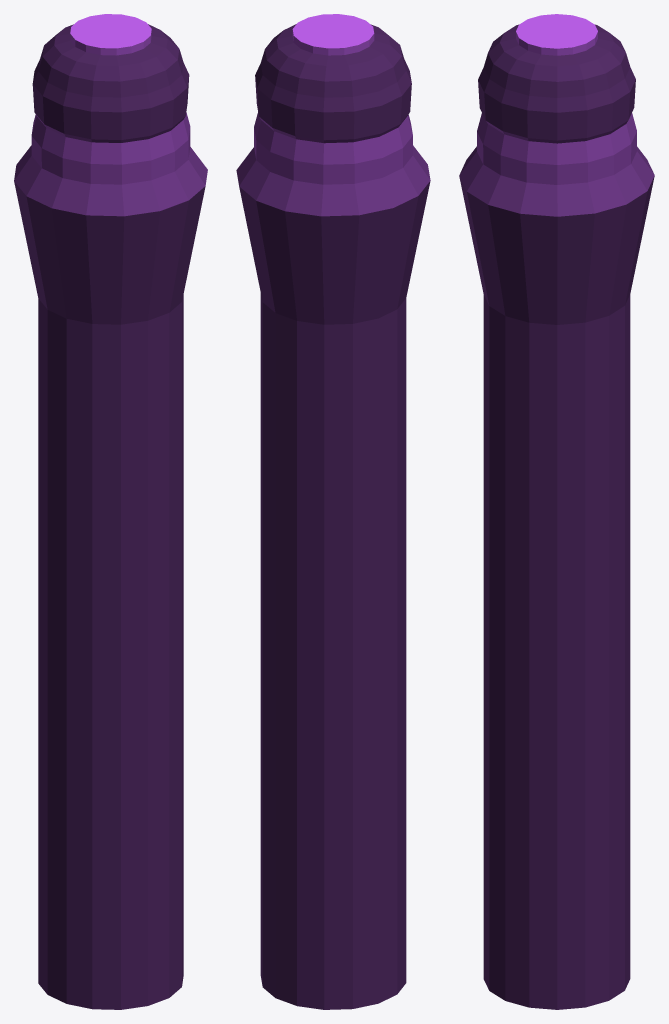
File: centerObject.glb
3 views of the same model, side by side, from view 1: azimuth 30°, elevation 25°; view 2: azimuth 150°, elevation 25°; view 3: azimuth 270°, elevation 25° (orthographic).
Parts seen in each view (by area): view 1: centerHere; view 2: centerHere; view 3: centerHere.
Part boxes in pixels (left/top/right/bottom): centerHere: left=14, top=14, right=207, bottom=1009; centerHere: left=236, top=14, right=430, bottom=1009; centerHere: left=459, top=14, right=654, bottom=1009.
Bounding box in the file's own units: 0.3826 × 2.04 × 0.3826.
1 material, 1 textured.
